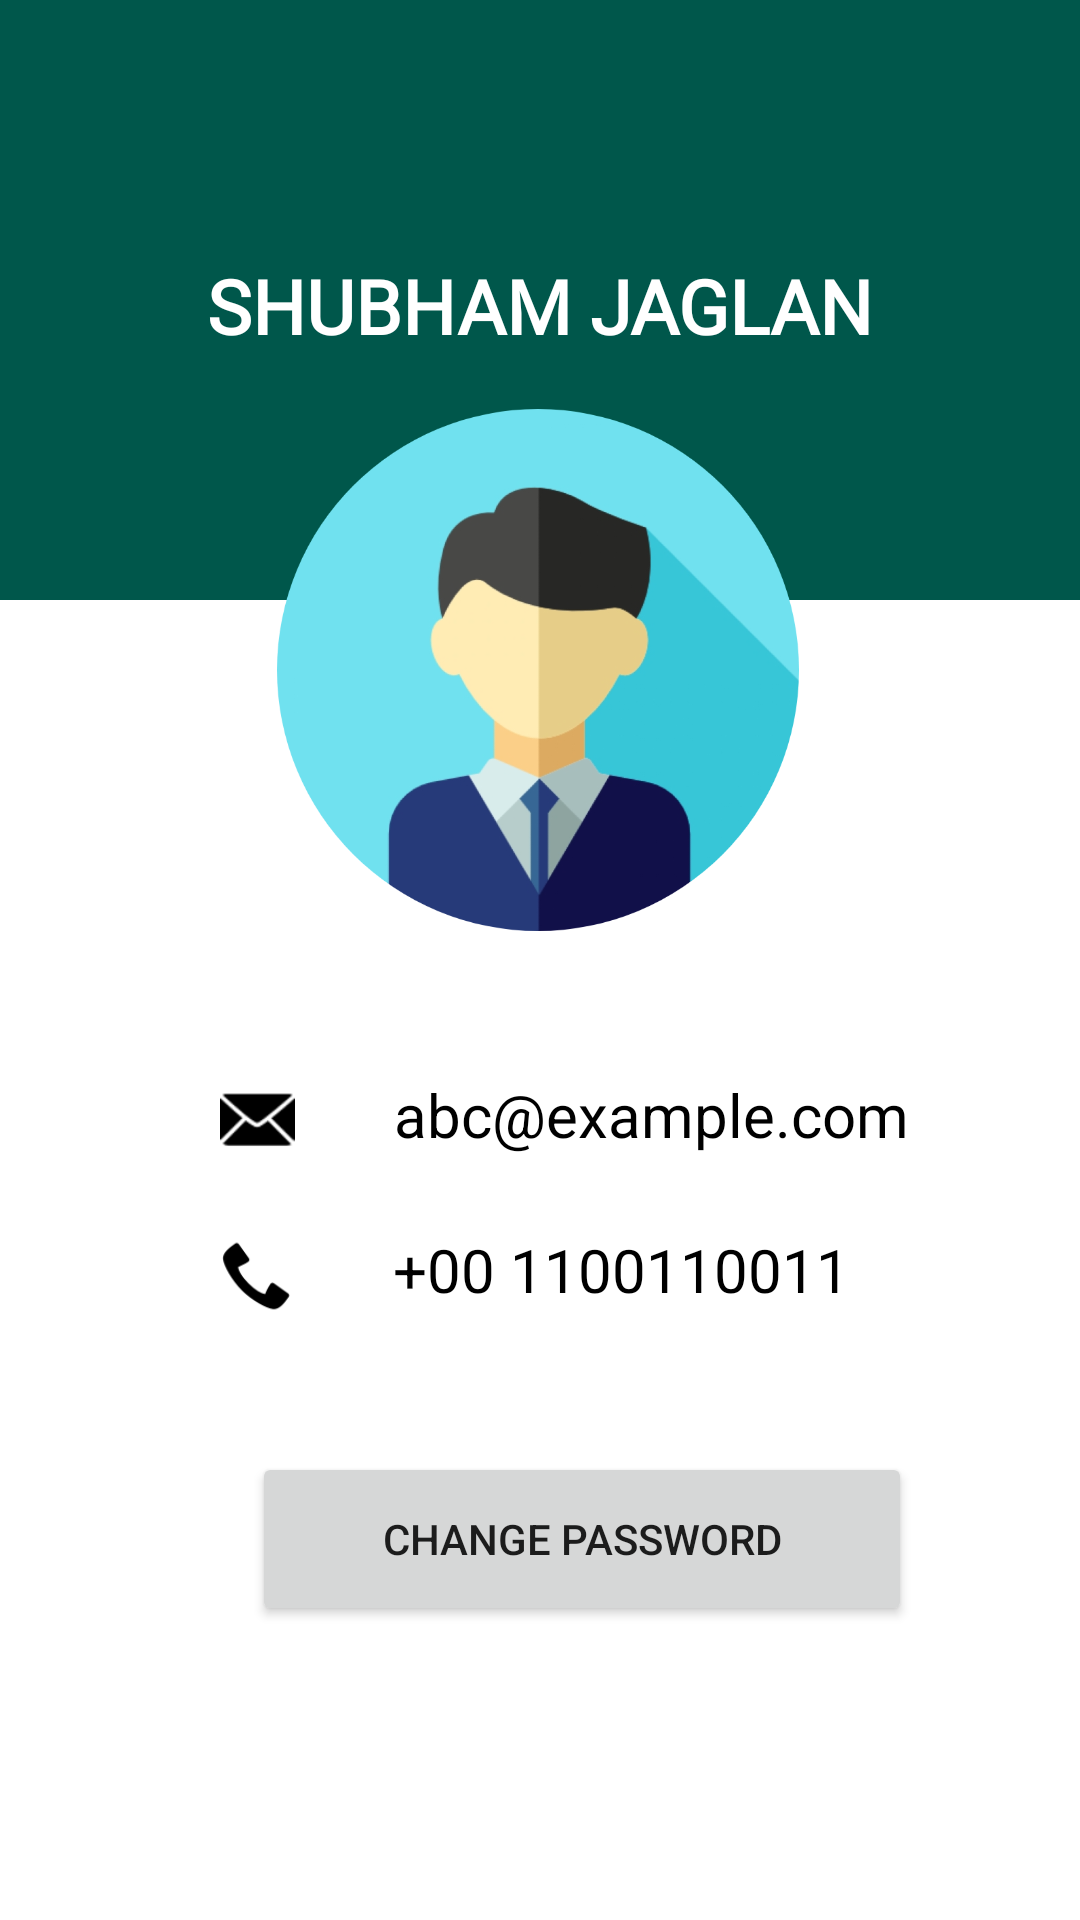

Icon click points for this 1080x1920 phone screenshot, format (x,y):
email: (257,1119)
phone call: (256,1276)
